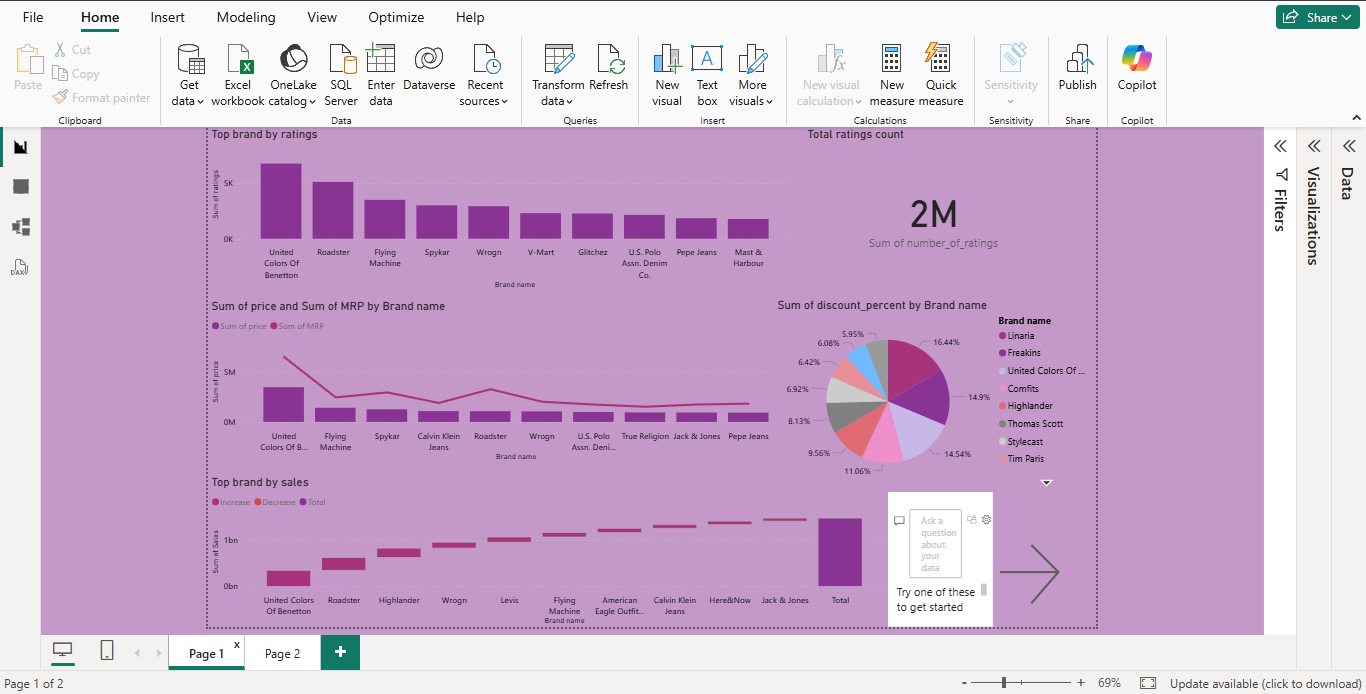

The dashboard page shown, as its layout file describes it:
{"tool":"powerbi","page":{"name":"Page 1","canvas":[1280,720],"ordinal":0},"visuals":[{"type":"columnChart","title":"Top brand by ratings","fields":{"Category":["myntra_dataset_ByScraping.Brand name"],"Y":["Sum(myntra_dataset_ByScraping.ratings)"]},"box":[0,0,843.3,236.9],"z":0},{"type":"card","title":"Total ratings count","fields":{"Values":["Sum(myntra_dataset_ByScraping.number_of_ratings)"]},"box":[858.4,0,372.9,236.9],"z":1000},{"type":"waterfallChart","title":"Top brand by sales","fields":{"Category":["myntra_dataset_ByScraping.Brand name"],"Y":["Sum(myntra_dataset_ByScraping.Sales)"]},"box":[0,500.6,979.3,220.1],"z":2000},{"type":"lineClusteredColumnComboChart","fields":{"Category":["myntra_dataset_ByScraping.Brand name"],"Y":["Sum(myntra_dataset_ByScraping.price)"],"Y2":["Sum(myntra_dataset_ByScraping.MRP)"]},"box":[0,247,843,237],"z":3000},{"type":"pieChart","fields":{"Category":["myntra_dataset_ByScraping.Brand name"],"Y":["Sum(myntra_dataset_ByScraping.discount_percent)"]},"box":[814.7,246.9,465.3,278.8],"z":4000},{"type":"actionButton","box":[1130.5,591.3,149.5,104.1],"z":5000},{"type":"qnaVisual","box":[979.3,525.8,151.2,194.2],"z":6000}]}

Visuals, with their boxes on the page's 1280x720 design canvas (x1, y1, x2, y2). These are canvas units, not pixel positions in the 1366x694 screenshot, which may show the page scaled, cropped or inside an application window:
"Top brand by ratings" columnChart: 0/0/843/237
"Total ratings count" card: 858/0/1231/237
"Top brand by sales" waterfallChart: 0/501/979/721
lineClusteredColumnComboChart - myntra_dataset_ByScraping.Brand name x Sum(myntra_dataset_ByScraping.price): 0/247/843/484
pieChart - myntra_dataset_ByScraping.Brand name x Sum(myntra_dataset_ByScraping.discount_percent): 815/247/1280/526
actionButton: 1130/591/1280/695
qnaVisual: 979/526/1130/720
